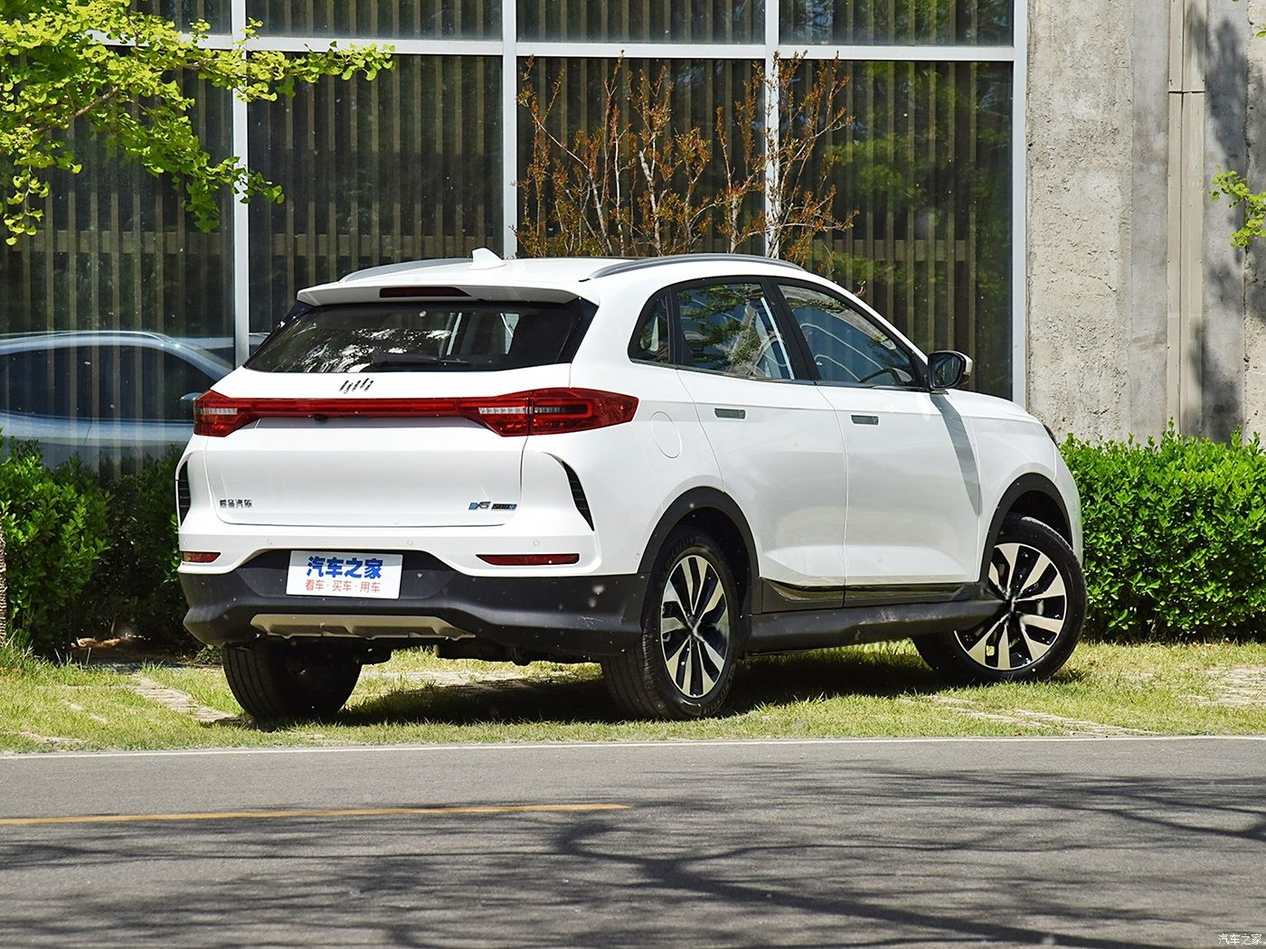WELTMEISTER: (340, 379, 373, 393)
